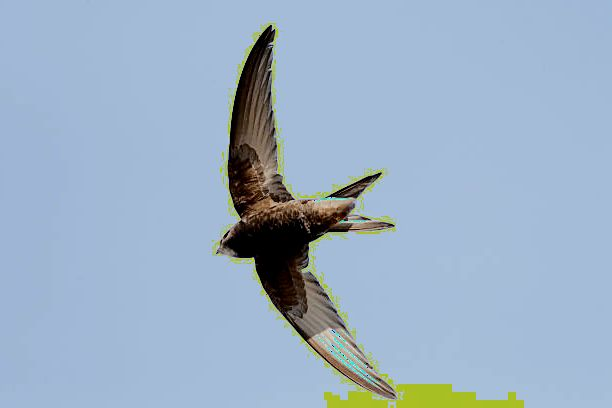Bird: (209, 20, 399, 399)
